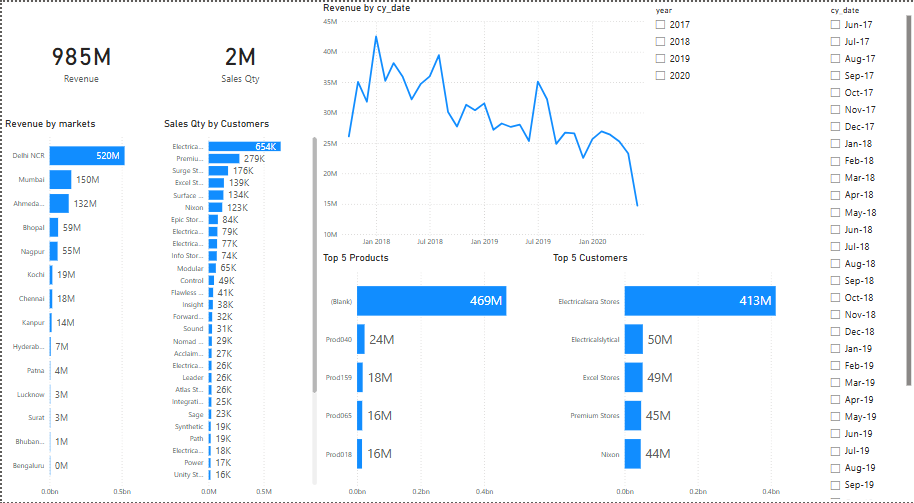

Layout of this report page (visuals, bound fields, positions):
{"tool":"powerbi","page":{"name":"KPI","canvas":[1550,850],"ordinal":0},"visuals":[{"type":"card","fields":{"Values":["BaseMeasures.Revenue"]},"box":[0,0,269.7,197.7],"z":0},{"type":"card","fields":{"Values":["BaseMeasures.Sales Qty"]},"box":[269.7,0,269.7,197.7],"z":1000},{"type":"barChart","title":"Revenue by markets","fields":{"Y":["BaseMeasures.Revenue"],"Category":["sales markets.markets_name"]},"box":[0,197.2,270.3,652.8],"z":2000},{"type":"barChart","title":"Sales Qty by Customers","fields":{"Y":["BaseMeasures.Sales Qty"],"Category":["sales customers.custmer_name"]},"box":[270.3,197.2,270.3,652.8],"z":3000},{"type":"slicer","fields":{"Values":["sales date.year"]},"box":[1098.2,0,297.5,425],"z":4000},{"type":"slicer","fields":{"Values":["sales date.cy_date"]},"box":[1395.7,0,154.7,850],"z":5000},{"type":"barChart","title":"Top 5 Customers","fields":{"Y":["BaseMeasures.Revenue"],"Category":["sales customers.custmer_name"]},"box":[931.6,425,464.1,425],"z":6000},{"type":"barChart","title":"Top 5 Products","fields":{"Y":["BaseMeasures.Revenue"],"Category":["sales products.product_code"]},"box":[540.6,425,391,425],"z":7000},{"type":"lineChart","fields":{"Y":["BaseMeasures.Revenue"],"Category":["sales date.cy_date"]},"box":[540.6,0,557.6,425],"z":8000}]}

Visuals, with their boxes in screenshot pixels (x1, y1, x2, y2), scaled from the page's 1550x850 canvas onto the 914x503 screenshot:
card - BaseMeasures.Revenue: locate(0, 0, 159, 117)
card - BaseMeasures.Sales Qty: locate(159, 0, 318, 117)
"Revenue by markets" barChart: locate(0, 117, 159, 502)
"Sales Qty by Customers" barChart: locate(159, 117, 319, 502)
slicer - sales date.year: locate(648, 0, 823, 252)
slicer - sales date.cy_date: locate(823, 0, 913, 502)
"Top 5 Customers" barChart: locate(549, 252, 823, 502)
"Top 5 Products" barChart: locate(319, 252, 549, 502)
lineChart - BaseMeasures.Revenue x sales date.cy_date: locate(319, 0, 648, 252)
